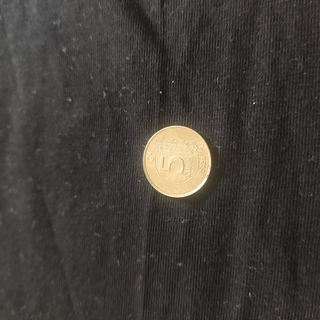5KURUS: (141, 123, 213, 199)
